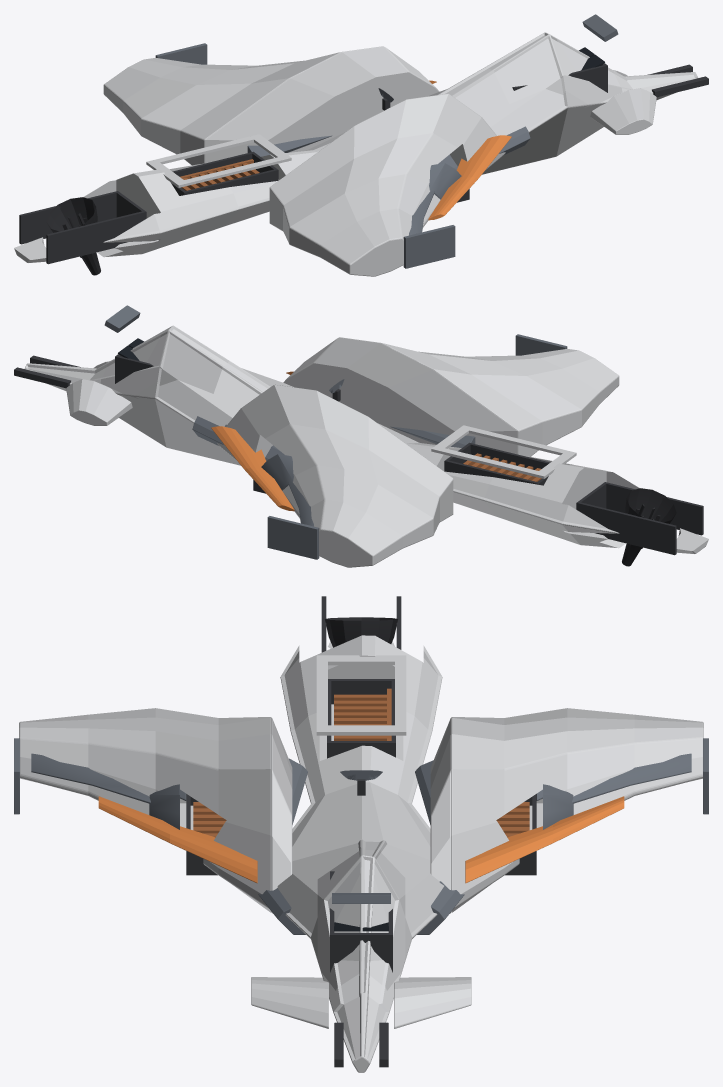
File: hornet_production_v1_lod0.glb
3 renders of one model, top to bottom at view 1: azimuth 30°, elevation 25°; view 2: azimuth 150°, elevation 25°; view 3: azimuth 270°, elevation 25°, orthographic. The views are drawn at different scales.
Visible parts, largest first — view 1: LOD0_Hull, LOD0_Wing_Port, LOD0_Wing_Stbd, LOD0_Drive_Fore, LOD0_SensorDish, LOD0_Canard_Port, LOD0_Accent_Port, LOD0_Bell, LOD0_RadiatorFin_Dorsal_0; view 2: LOD0_Hull, LOD0_Wing_Stbd, LOD0_Wing_Port, LOD0_Drive_Fore, LOD0_SensorDish, LOD0_Canard_Stbd, LOD0_Accent_Port, LOD0_Bell, LOD0_RadiatorFin_Dorsal_0; view 3: LOD0_Hull, LOD0_Wing_Port, LOD0_Wing_Stbd, LOD0_SensorDish, LOD0_Drive_Fore, LOD0_Accent_Port, LOD0_RadiatorFin_Dorsal_0, LOD0_Canard_Port, LOD0_Canard_Stbd, LOD0_Bell.
Part boxes in pixels (box(x1,y1,x2,y2)): LOD0_Hull: box(14, 32, 698, 262); LOD0_Wing_Port: box(269, 93, 505, 276); LOD0_Wing_Stbd: box(103, 46, 383, 165); LOD0_Drive_Fore: box(19, 63, 708, 264); LOD0_SensorDish: box(155, 14, 618, 268); LOD0_Canard_Port: box(590, 88, 656, 134); LOD0_Accent_Port: box(428, 80, 511, 220); LOD0_Bell: box(46, 197, 100, 275); LOD0_RadiatorFin_Dorsal_0: box(180, 159, 259, 190); LOD0_Hull: box(24, 325, 708, 553); LOD0_Wing_Stbd: box(217, 384, 453, 567); LOD0_Wing_Port: box(339, 337, 619, 456); LOD0_Drive_Fore: box(14, 354, 703, 555); LOD0_SensorDish: box(104, 305, 567, 559); LOD0_Canard_Stbd: box(66, 379, 132, 425); LOD0_Accent_Port: box(211, 371, 294, 511); LOD0_Bell: box(622, 488, 676, 566); LOD0_RadiatorFin_Dorsal_0: box(463, 453, 541, 481); LOD0_Hull: box(258, 635, 464, 1072); LOD0_Wing_Port: box(19, 708, 271, 912); LOD0_Wing_Stbd: box(451, 708, 703, 912); LOD0_SensorDish: box(14, 738, 708, 903); LOD0_Drive_Fore: box(186, 596, 536, 1067); LOD0_Accent_Port: box(98, 796, 624, 883); LOD0_RadiatorFin_Dorsal_0: box(193, 688, 529, 837); LOD0_Canard_Port: box(251, 977, 328, 1028); LOD0_Canard_Stbd: box(394, 977, 471, 1028); LOD0_Bell: box(325, 617, 397, 647).
Size of what is drawn, in the model's own units: 10.66 by 1.96 by 6.82.
